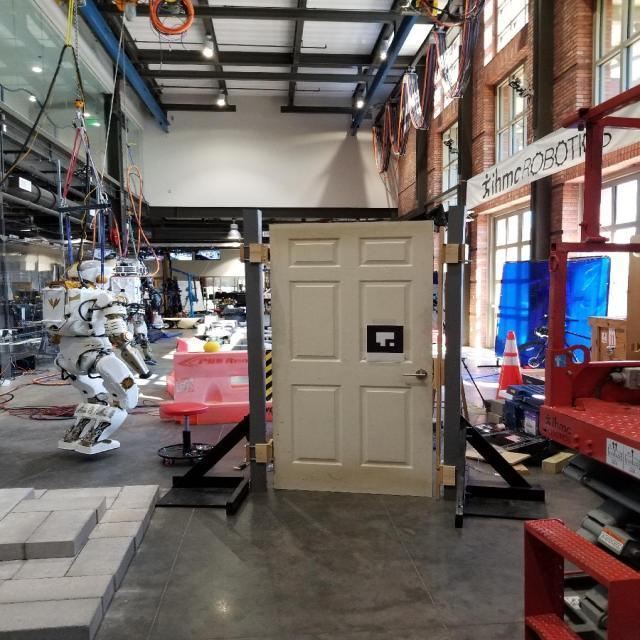door: (266, 218, 439, 500), (401, 367, 429, 382)
